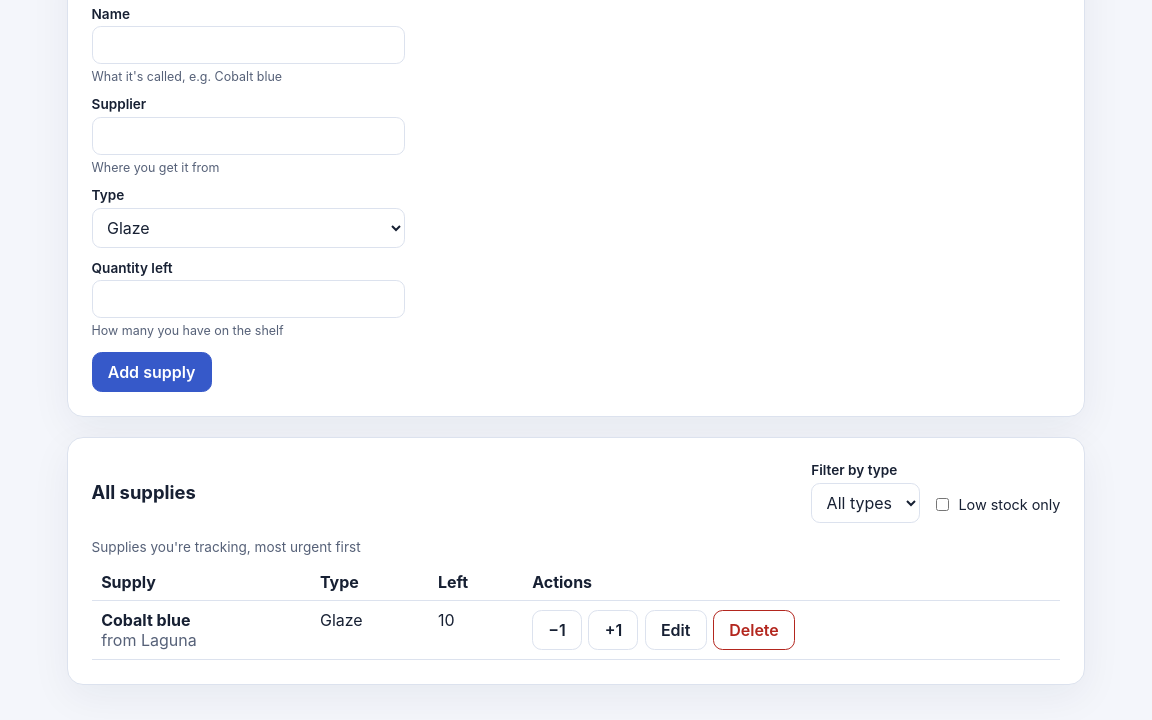
supply register › deletes a supply after confirmation
(page scrolled)
Click the button with aria-label "Delete Cobalt blue".
click(754, 630)  # box 713,610 -> 795,650
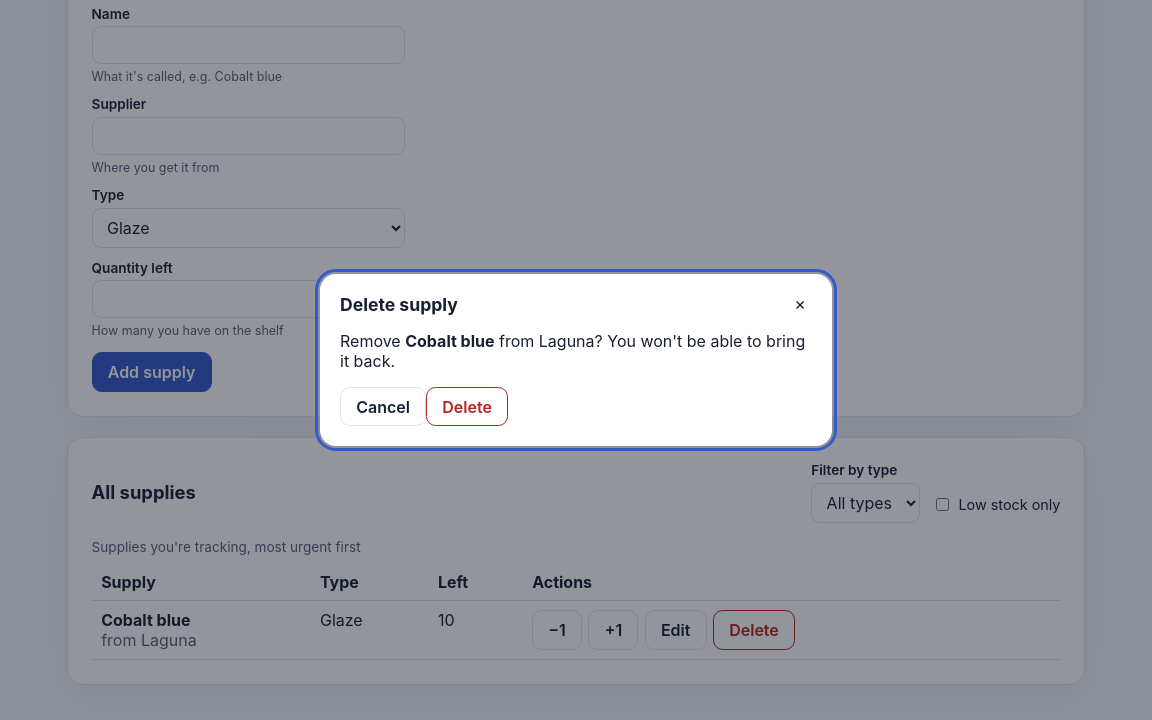
Expected: the text "Cobalt blue" is shown, 405,331 -> 494,351
Click the button "Delete".
click(467, 406)  # box 426,387 -> 508,426
(page scrolled)
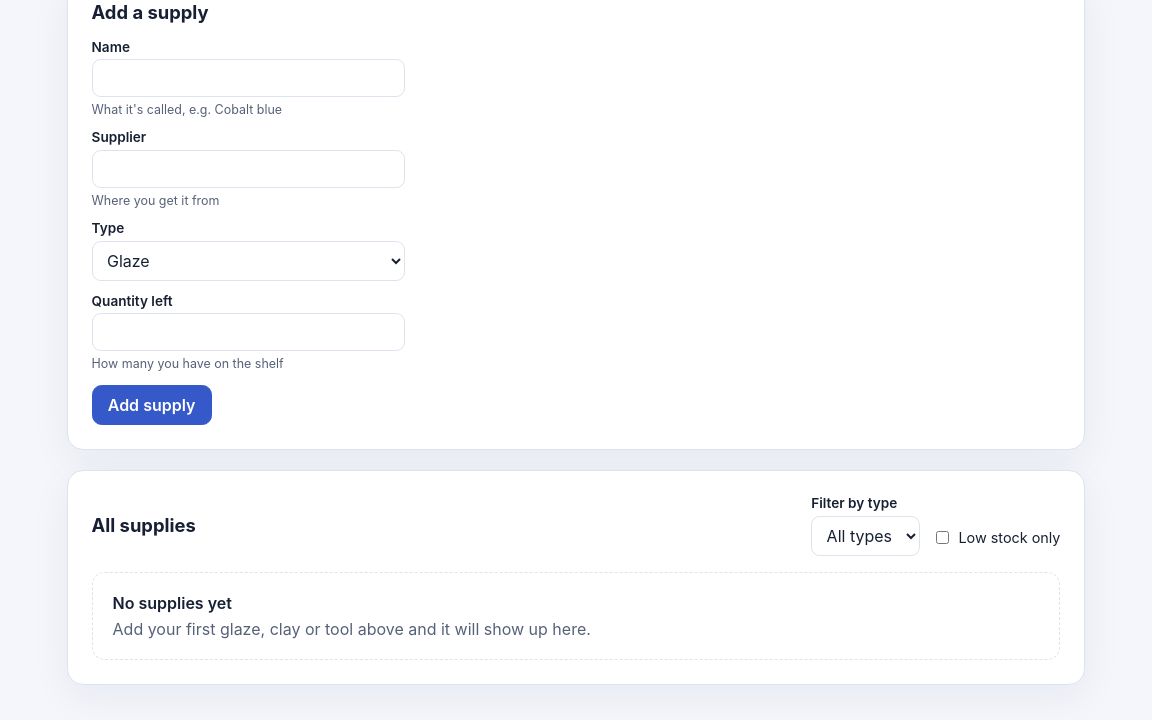
Expected: the dialog is gone
Expected: the text "No supplies yet" is shown, 112,593 -> 232,613
